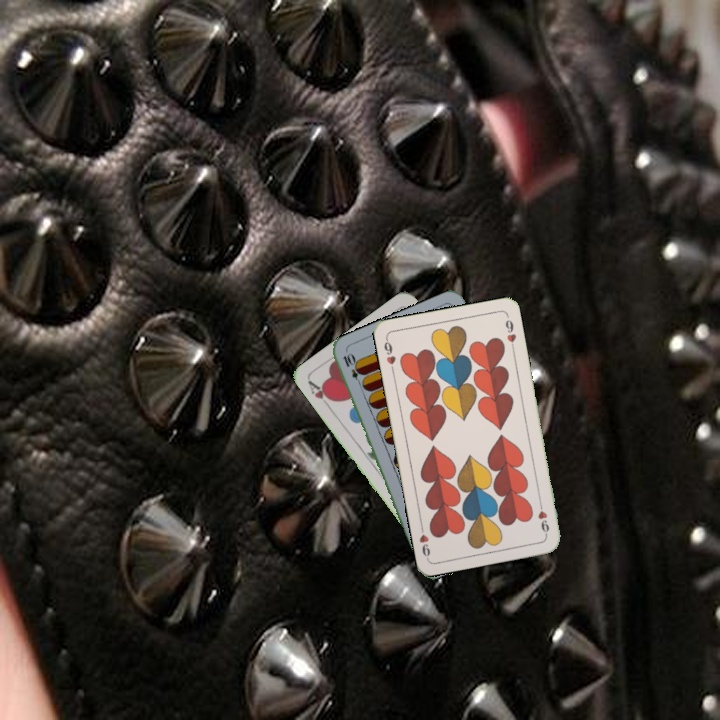E10: (339, 349, 365, 388)
H9: (380, 334, 398, 375), (534, 498, 552, 538)
HA: (304, 377, 336, 411)
